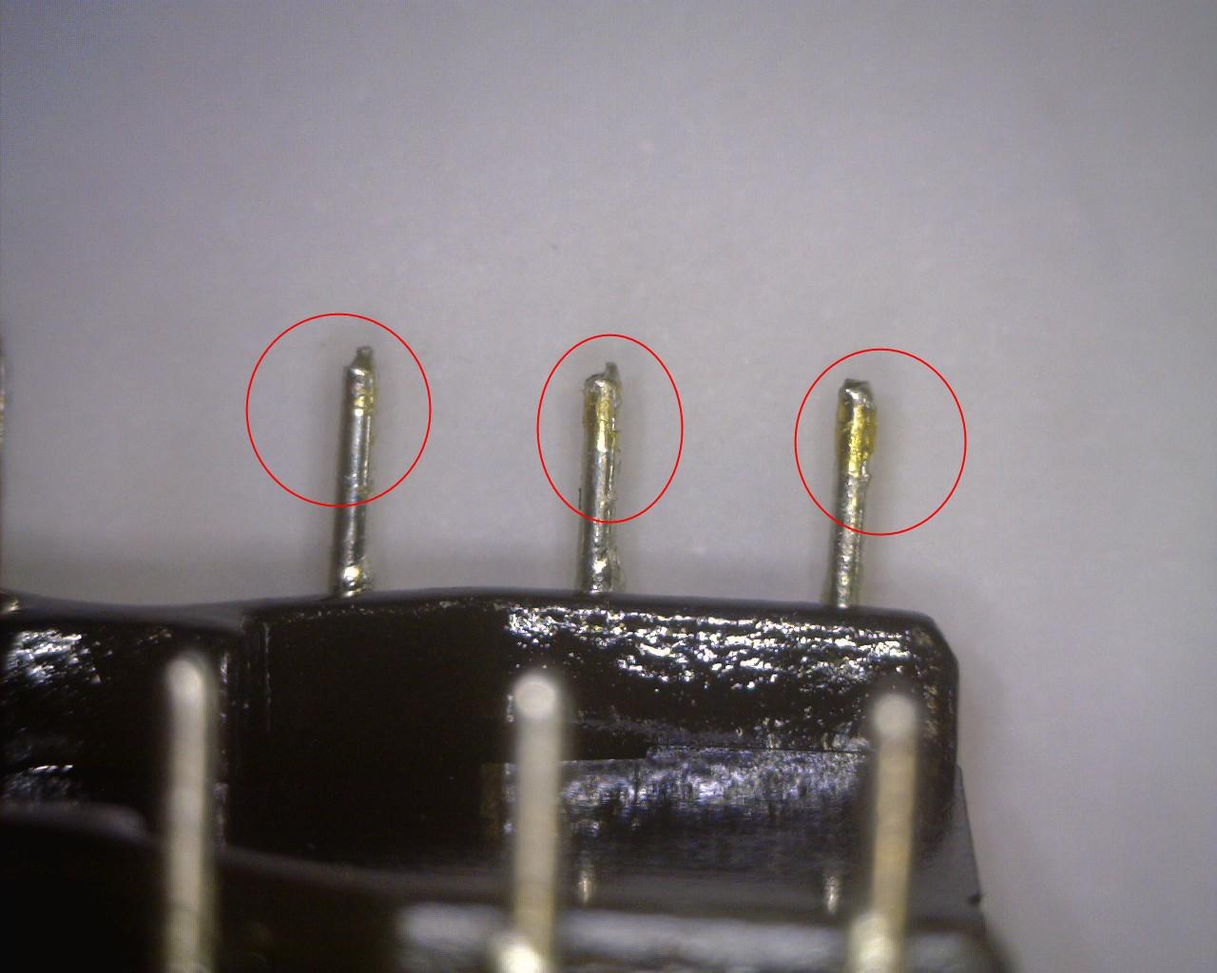varnish: (321, 333, 387, 491), (832, 372, 886, 524), (576, 358, 627, 511)
